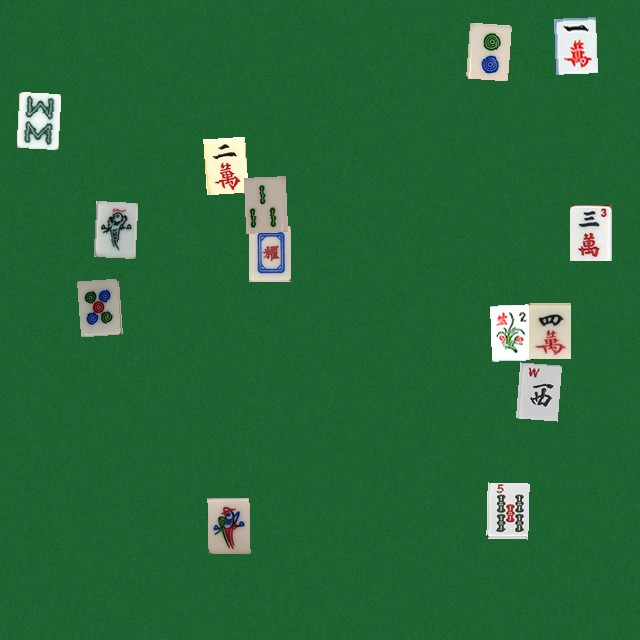tile: (93, 200, 135, 256), (248, 225, 290, 281), (207, 497, 249, 553), (490, 304, 532, 360), (16, 91, 58, 147), (203, 136, 245, 192), (243, 176, 285, 232), (528, 302, 570, 358), (553, 17, 595, 73), (515, 362, 557, 418), (466, 22, 508, 78), (77, 278, 119, 334), (569, 204, 611, 260), (486, 482, 528, 538)
